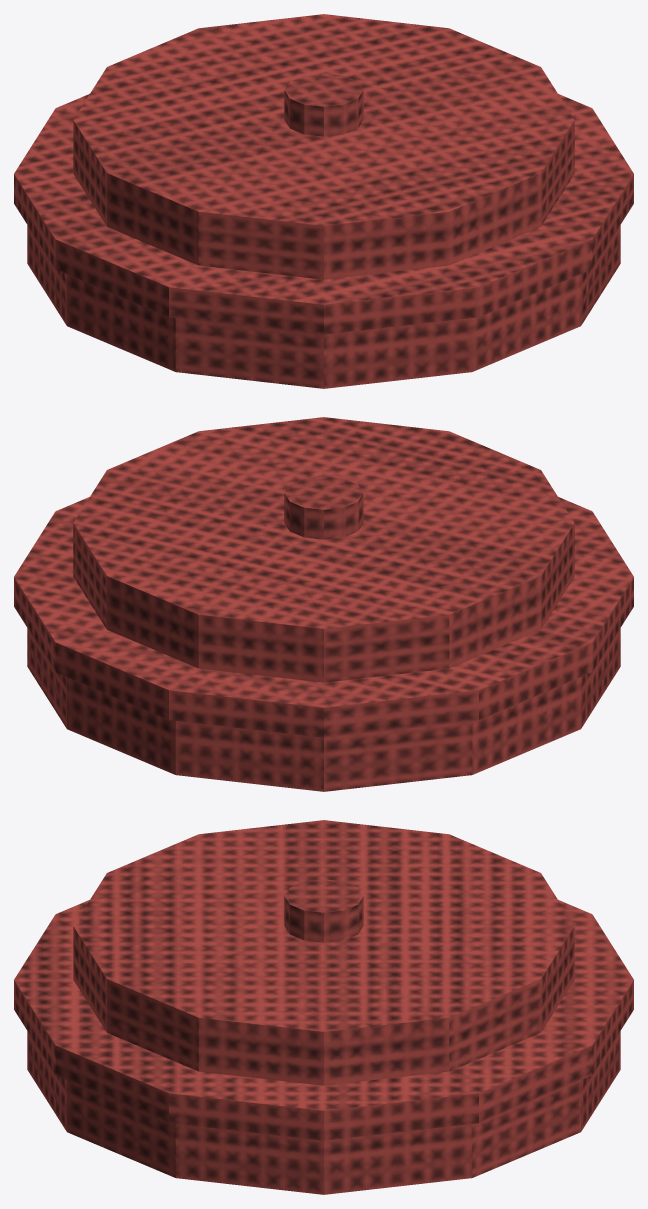
File: cushion.fbx
3 views of the same model, one above another, from view 1: azimuth 30°, elevation 25°; view 2: azimuth 150°, elevation 25°; view 3: azimuth 270°, elevation 25° (orthographic).
Parts seen in each view (by area): view 1: cushion; view 2: cushion; view 3: cushion.
Boxes of the visible parts, x1,y1,x2,y2 form: cushion: (14,14,633,388); cushion: (14,417,633,791); cushion: (14,820,633,1194).
Bounding box in the file's own units: 47 × 14.5 × 47.
